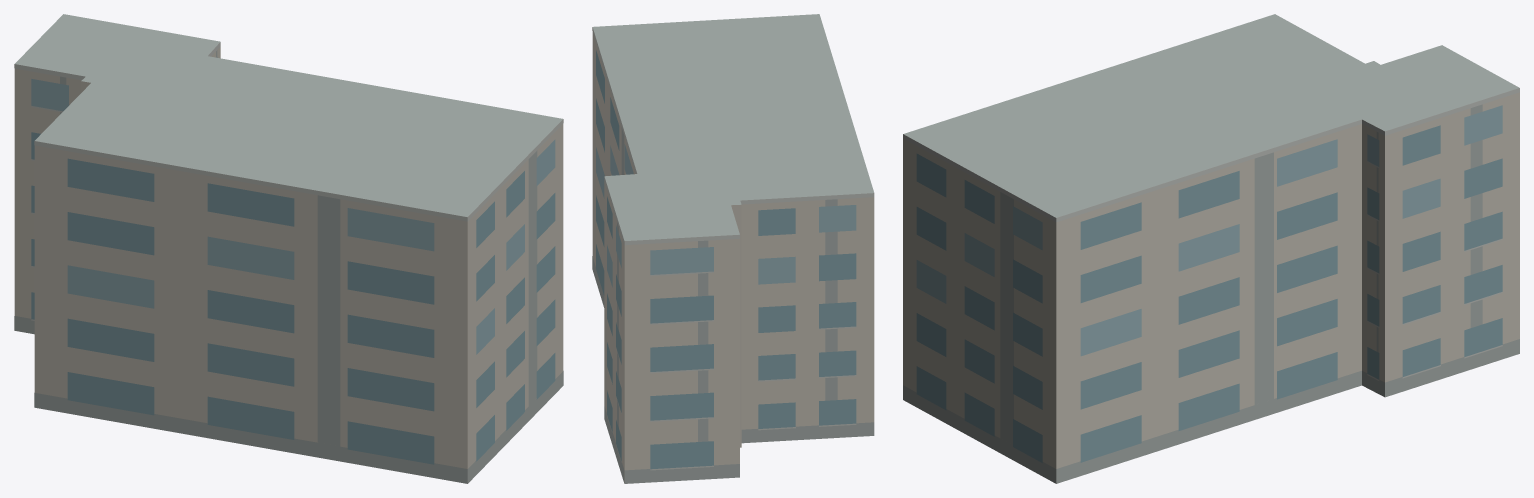
The model's file is survey-upis-33047465.glb.
The picture shows the model from 3 angles, left to right: view 1: azimuth 30°, elevation 25°; view 2: azimuth 150°, elevation 25°; view 3: azimuth 270°, elevation 25°; orthographic projection. The views are drawn at different scales.
Visible parts, largest first — view 1: survey-upis-33047465.tmp; view 2: survey-upis-33047465.tmp; view 3: survey-upis-33047465.tmp.
Boxes of the visible parts, x1,y1,x2,y2 form: survey-upis-33047465.tmp: (14, 14, 563, 483); survey-upis-33047465.tmp: (592, 14, 874, 483); survey-upis-33047465.tmp: (903, 14, 1519, 483).
Bounding box in the file's own units: 23.87 × 14.5 × 30.49.
